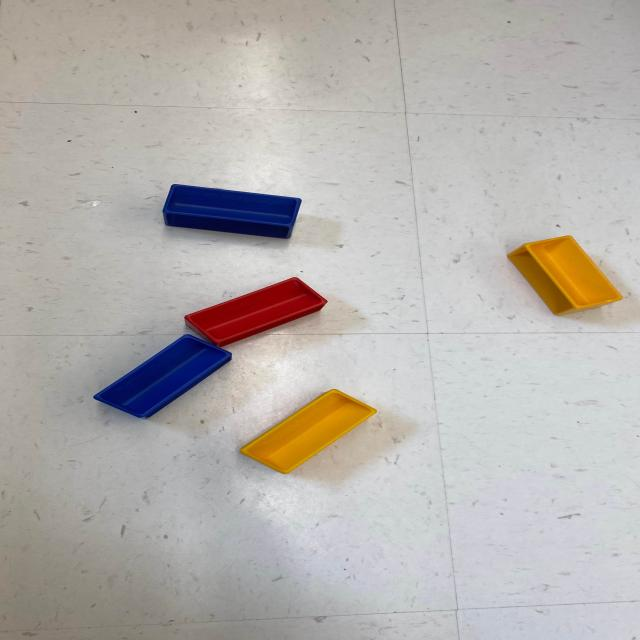blue-specimen: (90, 331, 237, 423), (158, 184, 304, 241)
red-specimen: (182, 275, 334, 347)
yellow-specimen: (238, 387, 385, 483), (505, 232, 627, 319)
